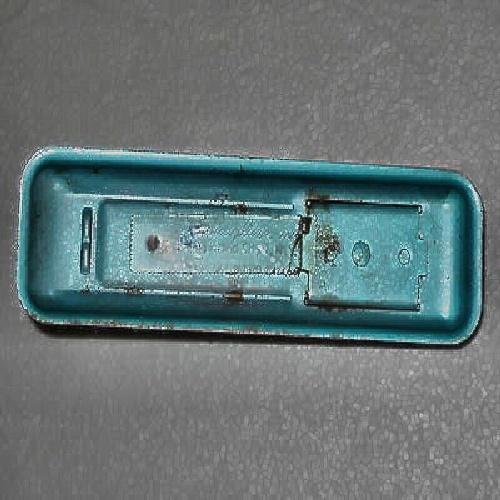stapler: (32, 153, 476, 352)
